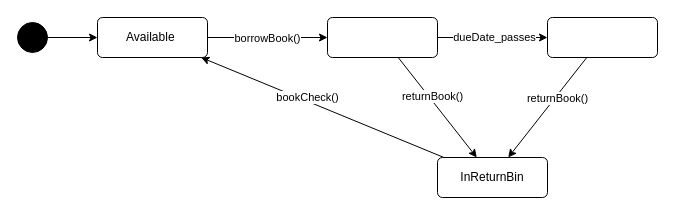
Image size: 675x215. Some labels were removed from this diagram. Each missing label, with the centre of its shape:
"OnLoan" belongs at (382,37).
"Overdue" belongs at (602,37).
